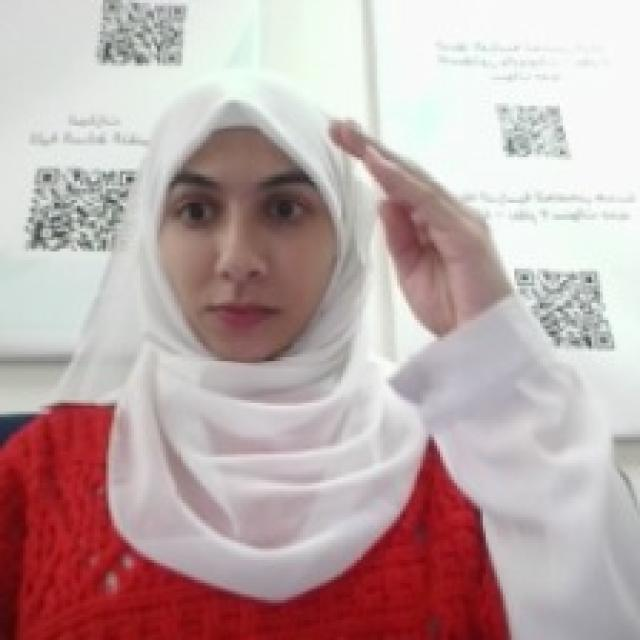Thanks: (320, 108, 506, 332)
